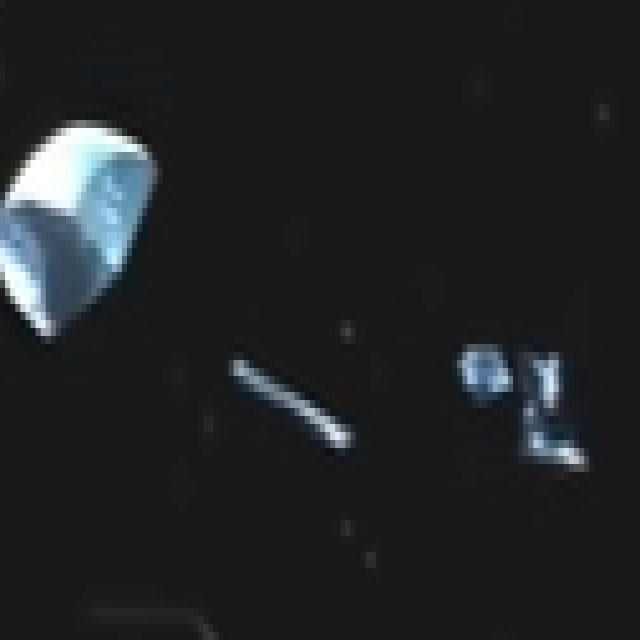large_debris: (7, 76, 161, 369), (217, 319, 391, 507), (447, 308, 605, 511)
